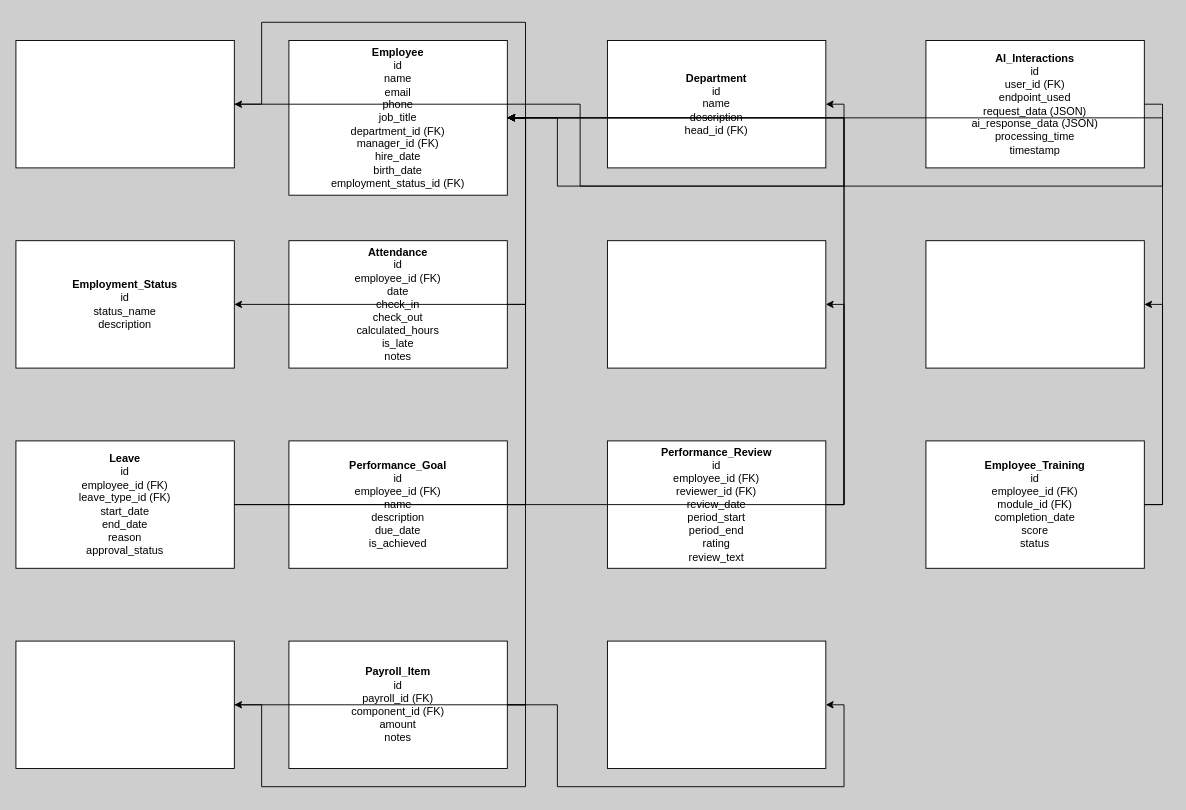
This 1186x810 diagram has some shape labels left out. The centre of each missing label's shape, as x and y in pixels:
Leave_Type id name days_limit: the point at 716,304
Payroll id employee_id (FK) pay_period_start pay_period_end net_salary status: the point at 124,704
Salary_Component id name type (Earning/Deduction): the point at 716,704
Training_Module id title description duration_hours category: the point at 1034,304
User id employee_id (FK) email password role is_active: the point at 124,104
